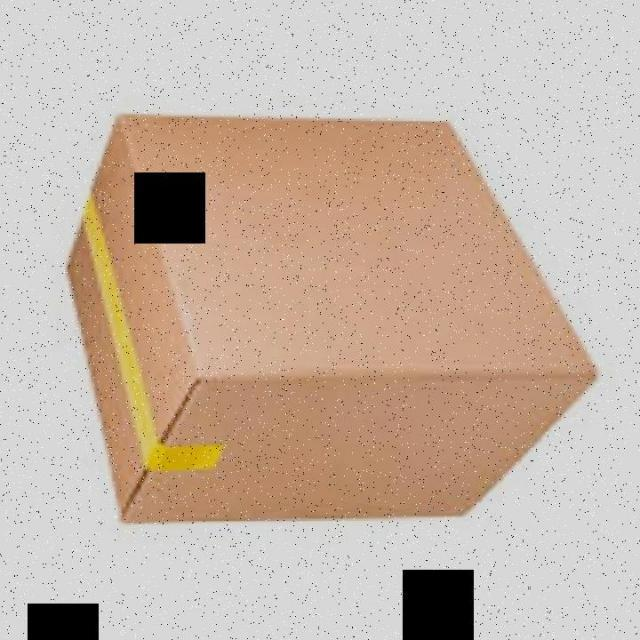box: (48, 106, 614, 552)
